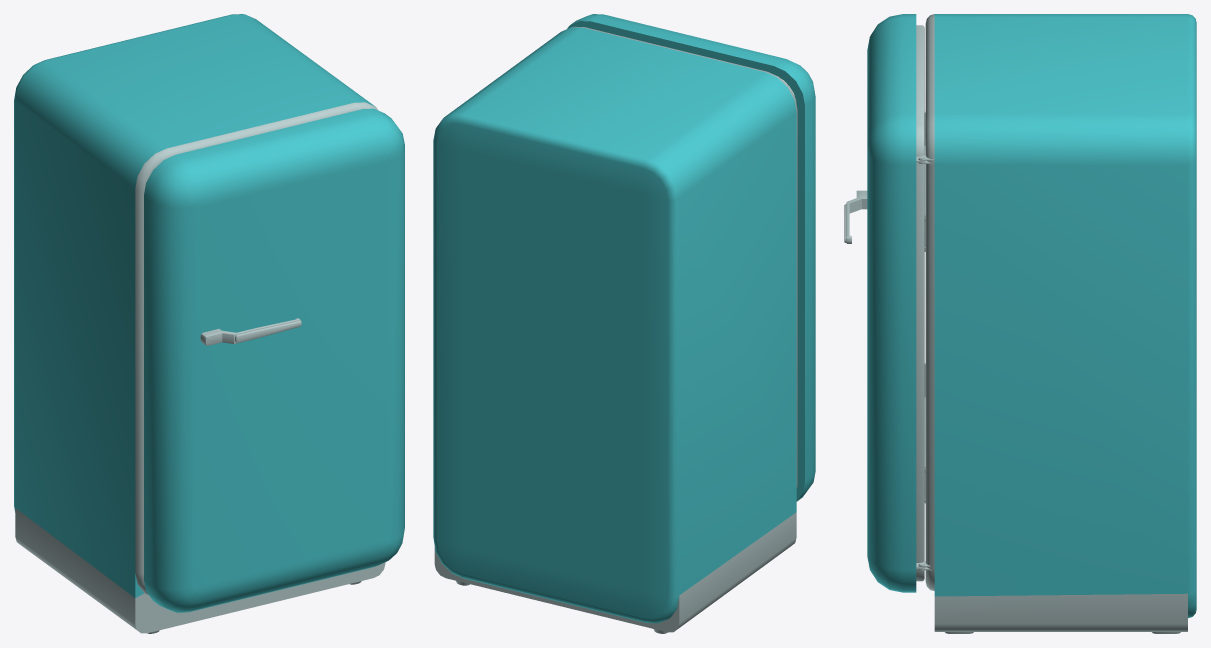
The model's file is Hospital_fridge.fbx.
3 views of the same model, side by side, from view 1: azimuth 30°, elevation 25°; view 2: azimuth 150°, elevation 25°; view 3: azimuth 270°, elevation 25° (orthographic). The views are drawn at different scales.
Visible parts, largest first — view 1: Hospital_Fridge_Door, Hospital_Fridge; view 2: Hospital_Fridge, Hospital_Fridge_Door; view 3: Hospital_Fridge, Hospital_Fridge_Door.
Boxes of the visible parts, x1,y1,x2,y2 form: Hospital_Fridge_Door: (144,108,404,612); Hospital_Fridge: (14,14,385,633); Hospital_Fridge: (433,26,797,633); Hospital_Fridge_Door: (567,14,815,501); Hospital_Fridge: (918,14,1196,633); Hospital_Fridge_Door: (844,14,925,592).
Bounding box in the file's own units: 40.4 × 75 × 46.71.
